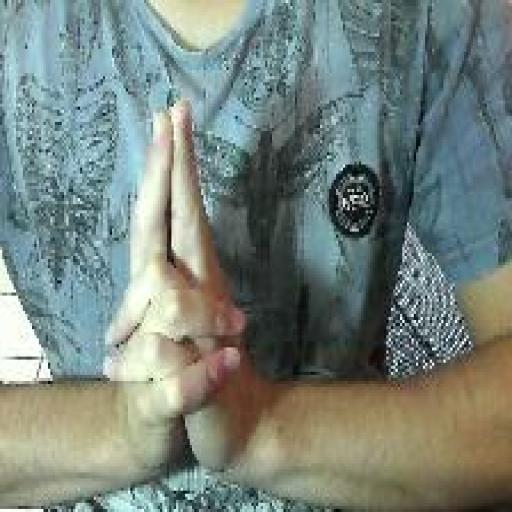Tora -tiger-: (98, 94, 249, 490)
